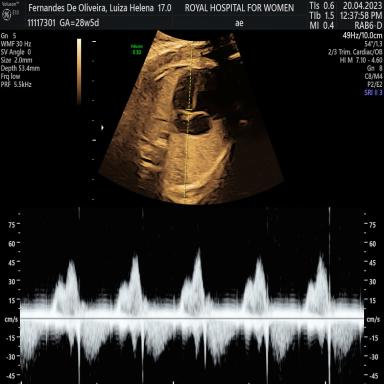Ultrasound-Waves: (26, 209, 361, 384)
